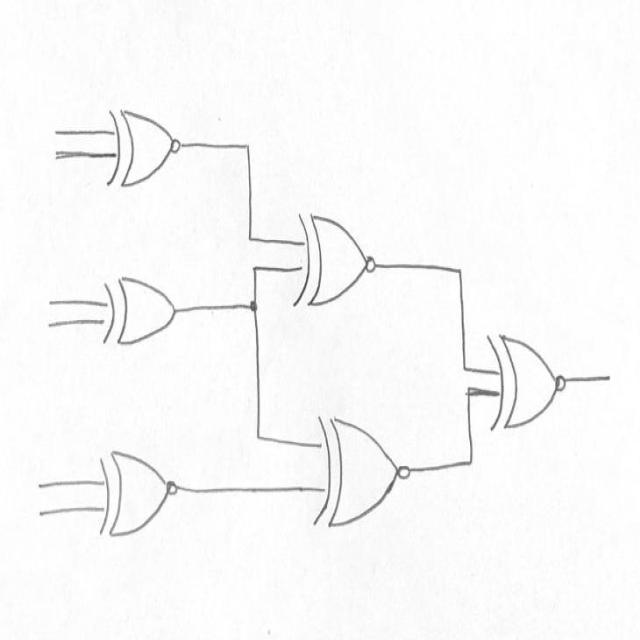XNOR: (308, 394, 421, 545), (288, 189, 396, 325), (87, 441, 200, 549), (482, 321, 577, 444), (96, 92, 196, 200)
XOR: (93, 263, 197, 373)
